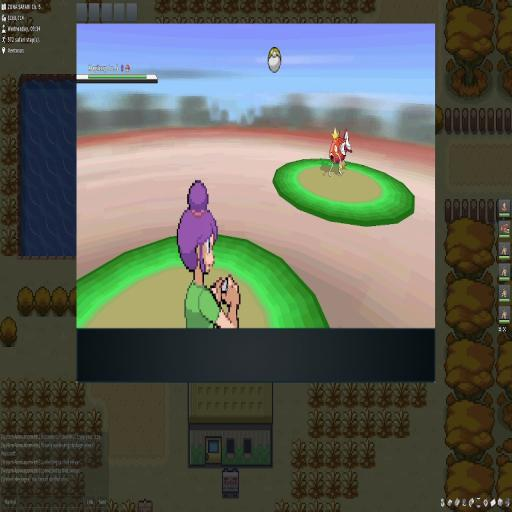MAGIKARP: (327, 126, 352, 176)
